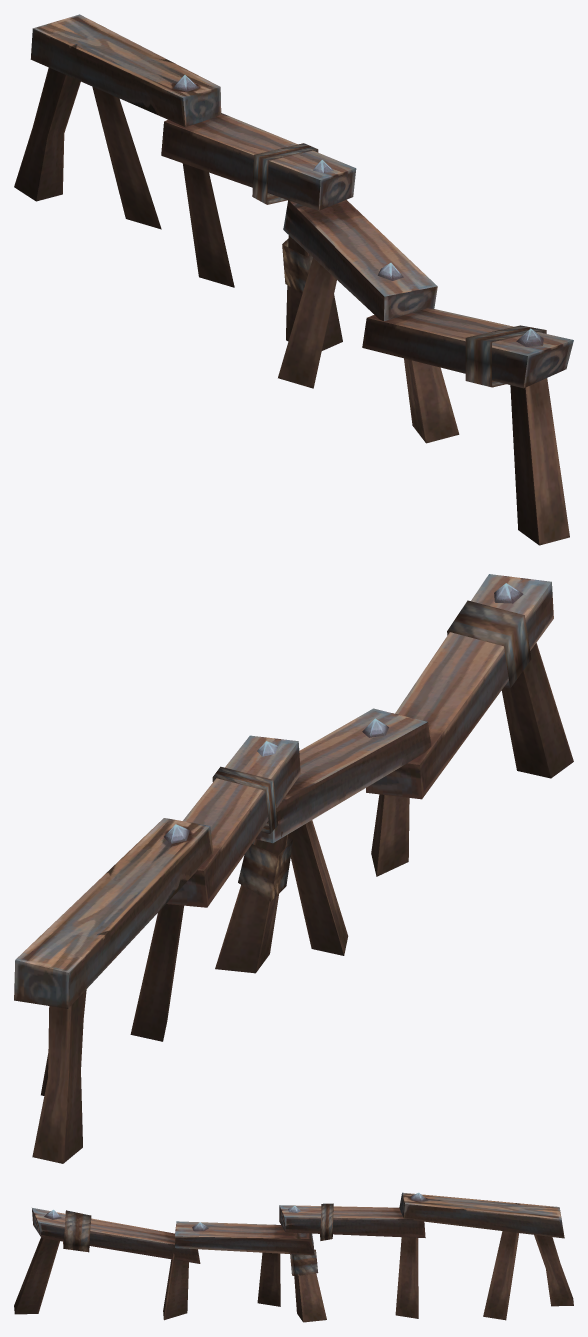
Rendered from mine_railing02.fbx.
3 views of the same model, one above another, from view 1: azimuth 30°, elevation 25°; view 2: azimuth 150°, elevation 25°; view 3: azimuth 270°, elevation 25° (orthographic). The views are drawn at different scales.
Visible parts, largest first — view 1: 13_-_Default; view 2: 13_-_Default; view 3: 13_-_Default.
Part boxes in pixels (<box>): 13_-_Default: <box>14,14,573,545</box>; 13_-_Default: <box>14,574,573,1163</box>; 13_-_Default: <box>14,1192,573,1322</box>.
Bounding box in the file's own units: 0.842 × 1.87 × 8.24.
